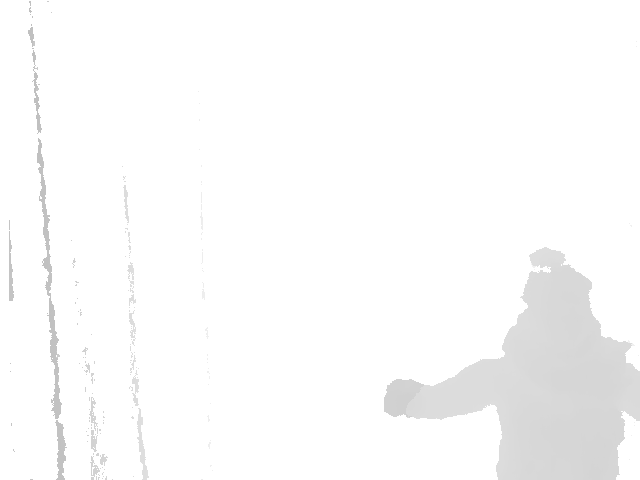head: (508, 245, 603, 361)
person: (384, 244, 638, 480)
